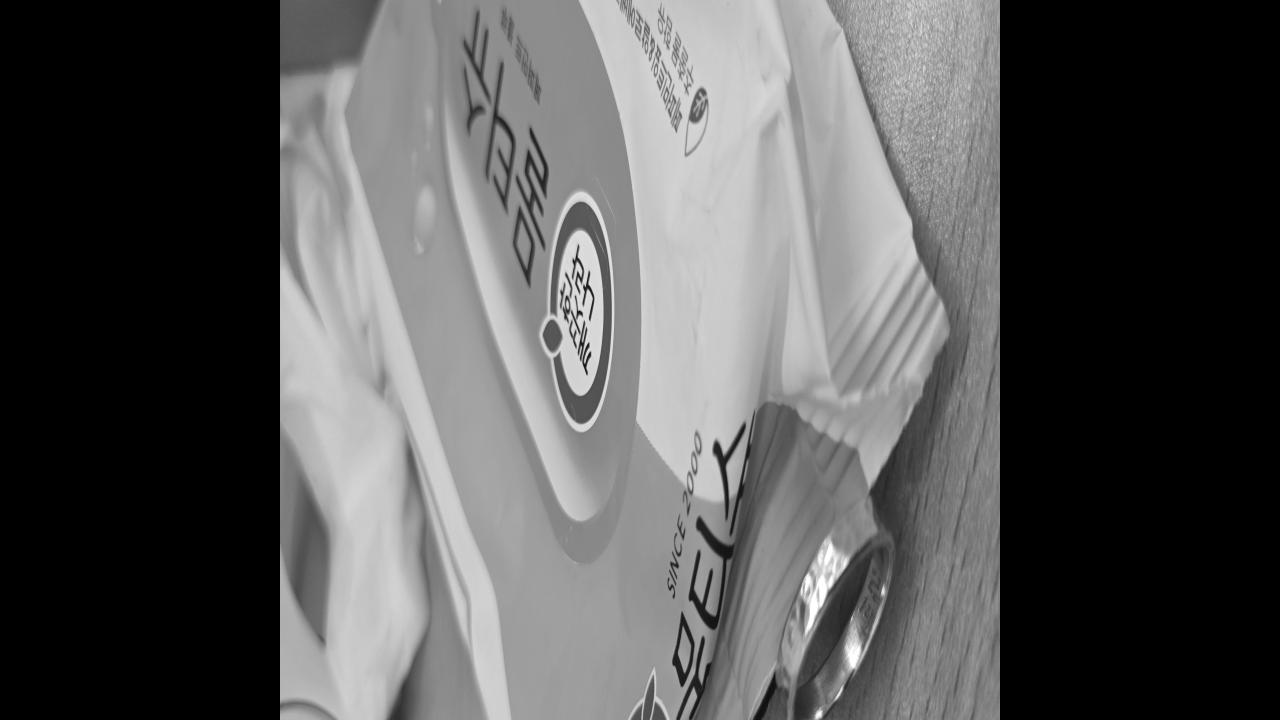ring: (774, 489, 896, 720)
